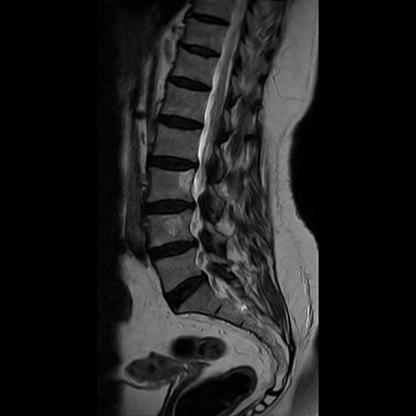Disc Bulgerotation: (138, 196, 200, 222), (146, 237, 204, 263), (143, 151, 204, 175)
